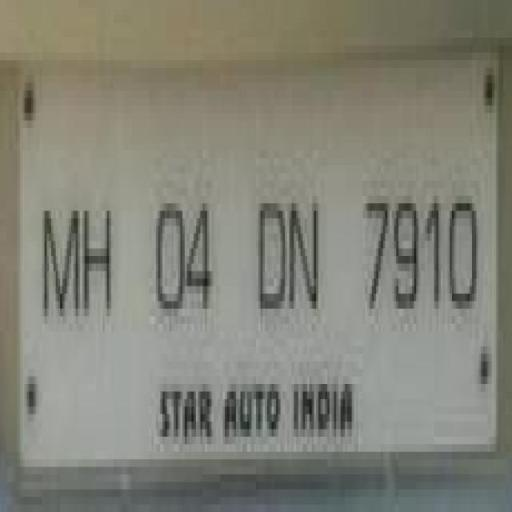number plate: (0, 14, 492, 460)
